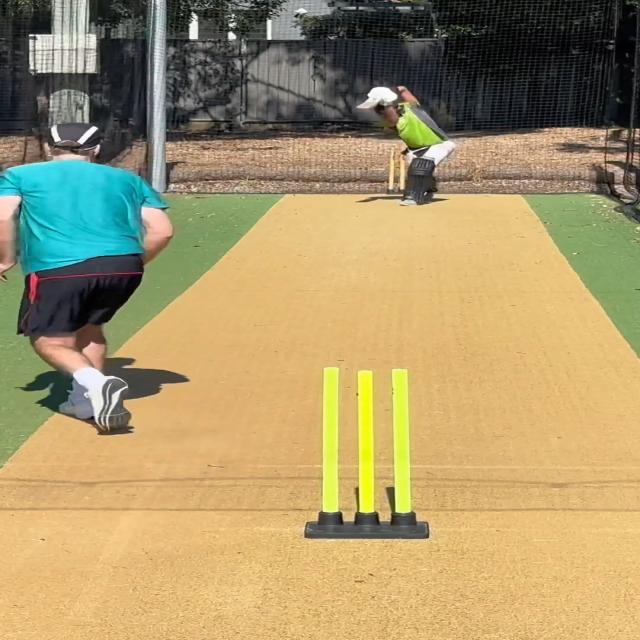stump: (305, 366, 431, 538)
